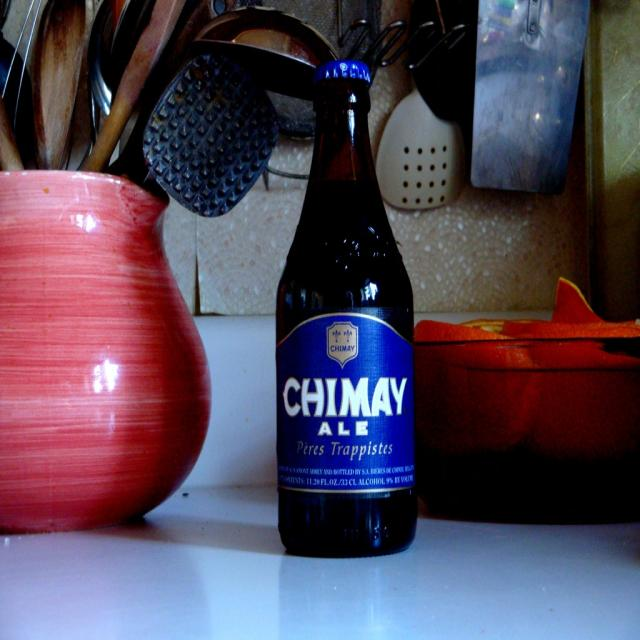chimay: (277, 314, 417, 495)
